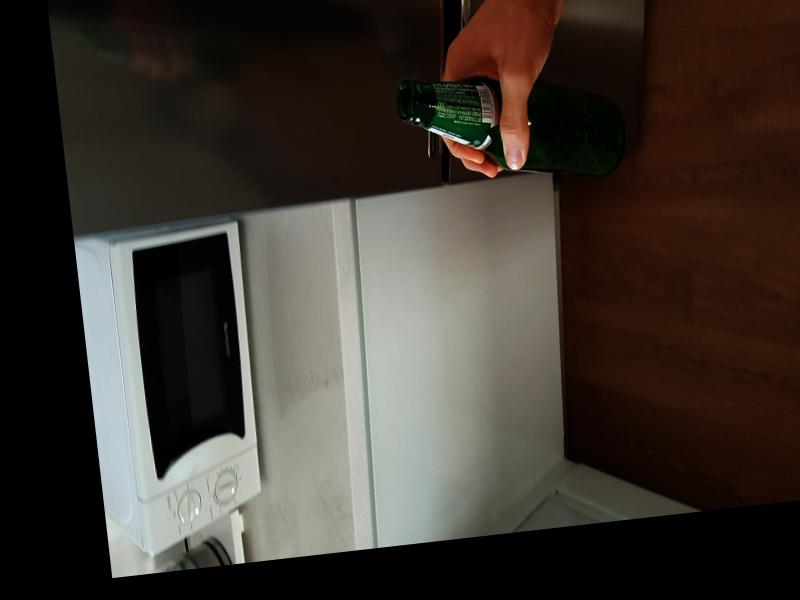Beer: (394, 56, 631, 196)
